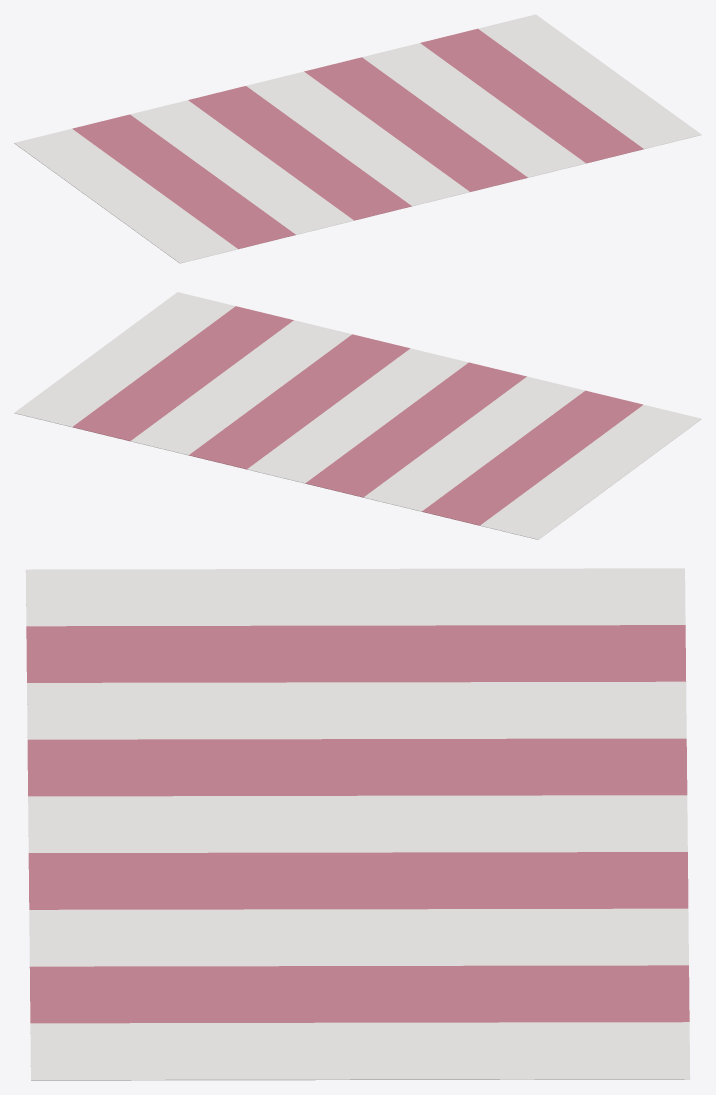
Rendered from Carpet_6.fbx.
3 views of the same model, one above another, from view 1: azimuth 30°, elevation 25°; view 2: azimuth 150°, elevation 25°; view 3: azimuth 270°, elevation 25° (orthographic). The views are drawn at different scales.
Parts seen in each view (by area): view 1: Carpet_6; view 2: Carpet_6; view 3: Carpet_6.
Part boxes in pixels (x1,y1,x2,y2): Carpet_6: [14, 14, 701, 263]; Carpet_6: [14, 292, 701, 539]; Carpet_6: [25, 568, 690, 1080].
Bounding box in the file's own units: 265 × 145 × 0.1459.
